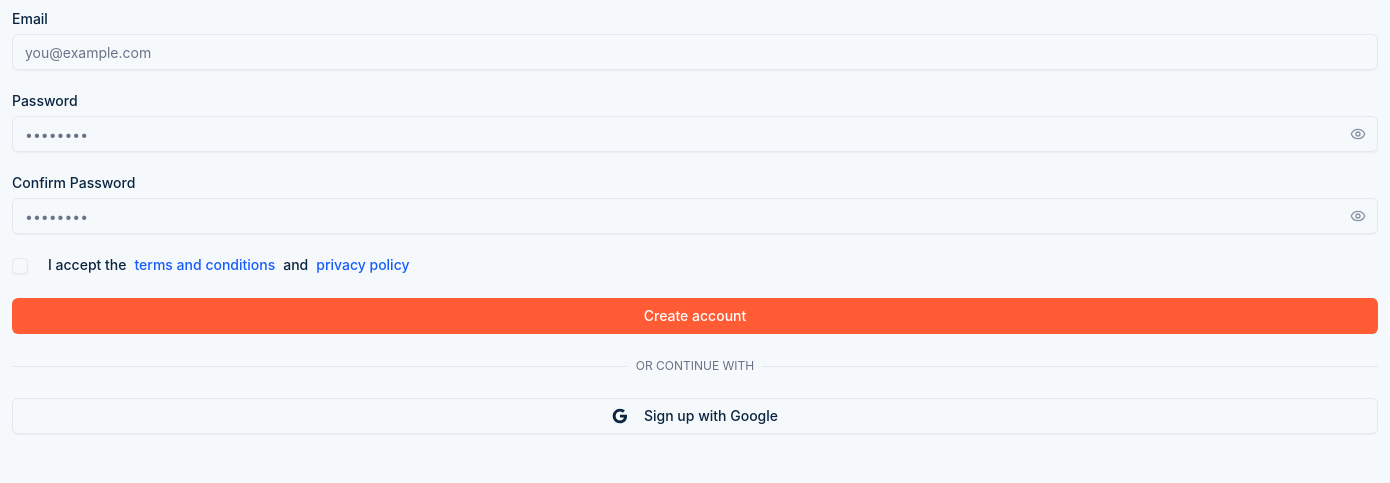
Scenario: [P0] Story 8.1: Email/Password Registration Integration › 8.1-INT-002: should show password strength indicator
Type weak password
In the password field with test id "password-input": coordinates (695, 134) top-left (12, 116), bottom-right (1378, 152), type "weak"
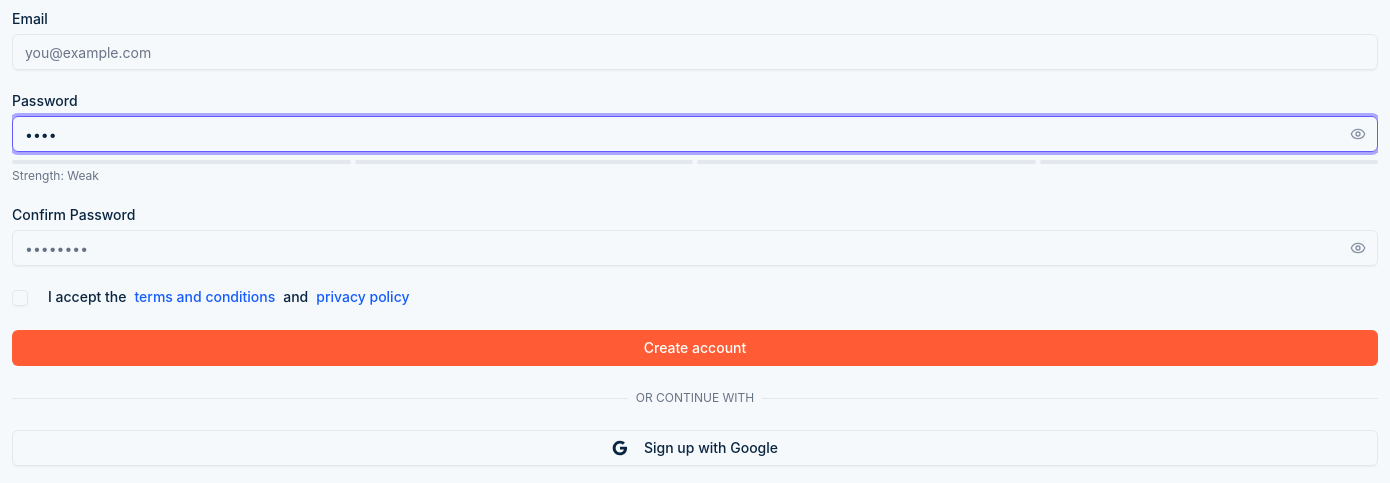
Expected: the text with test id "strength-label" shows "Weak", top-left (67, 168), bottom-right (99, 183)
Type stronger password
In the password field with test id "password-input": coordinates (695, 134) top-left (12, 116), bottom-right (1378, 152), type "Password123!"
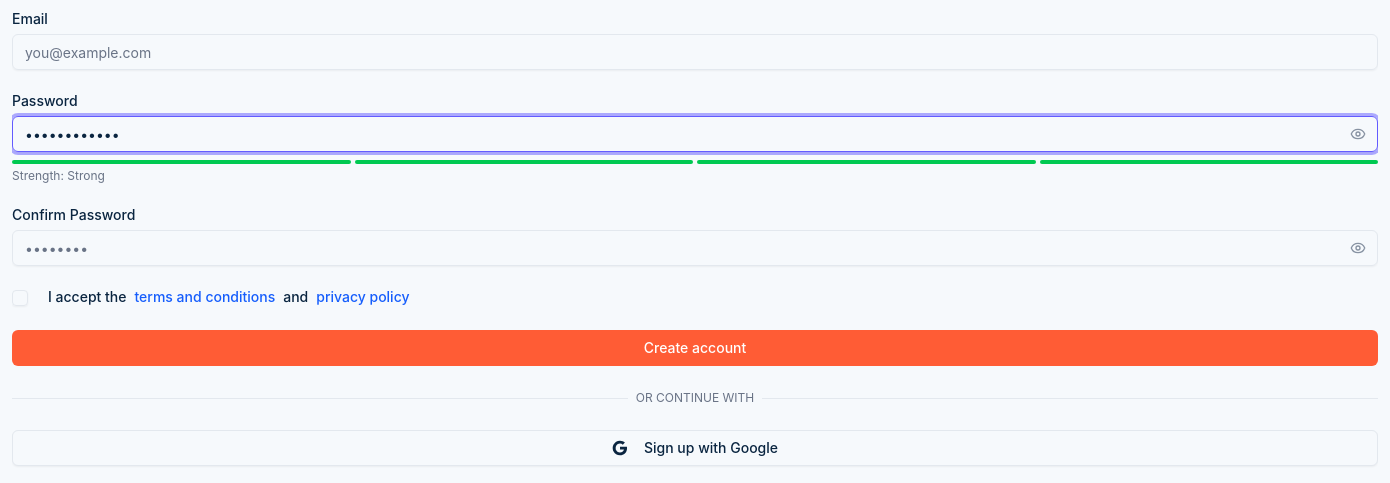
Expected: the text with test id "strength-label" shows "Strong", top-left (67, 168), bottom-right (105, 183)
